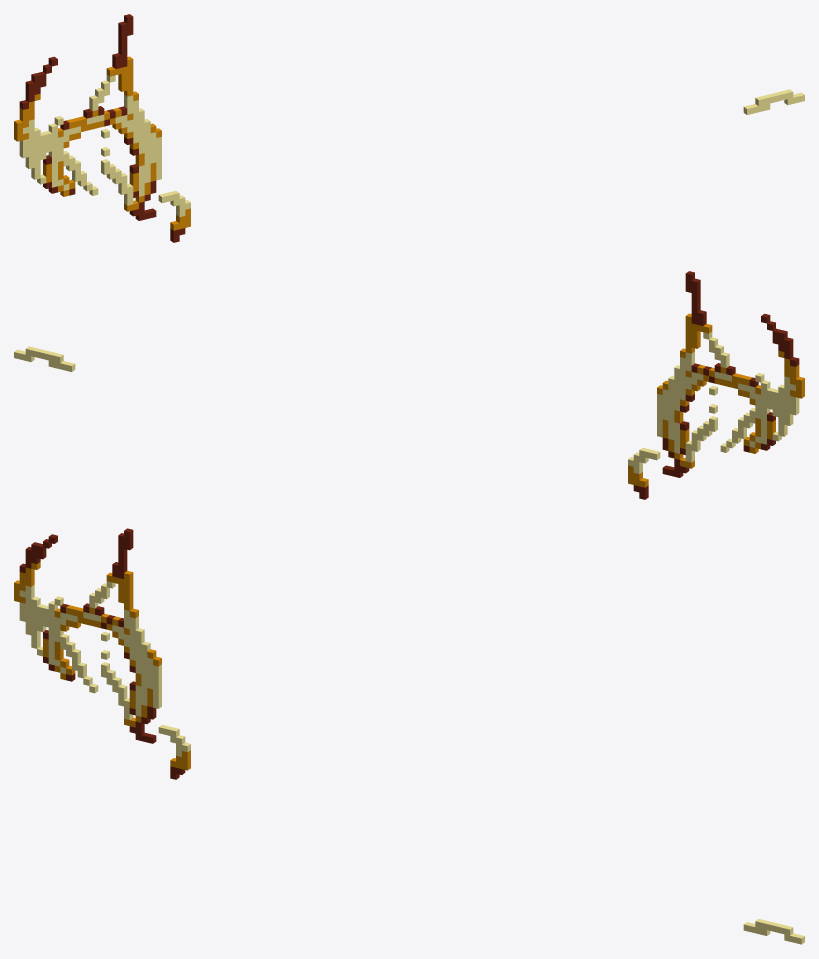
Rendered from Fight_709_2_04_fx.obj.
The picture shows the model from 3 angles, top to bottom: view 1: azimuth 30°, elevation 25°; view 2: azimuth 150°, elevation 25°; view 3: azimuth 330°, elevation 25°; orthographic projection.
Bounding box in the file's own units: 13.6 × 4.1 × 0.1.
